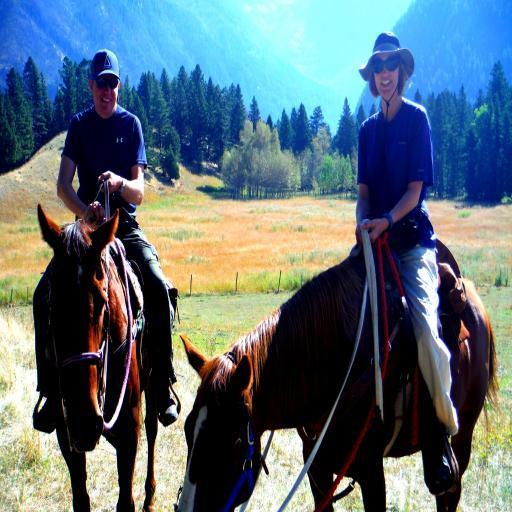horse: (172, 254, 502, 512), (36, 196, 158, 512)
